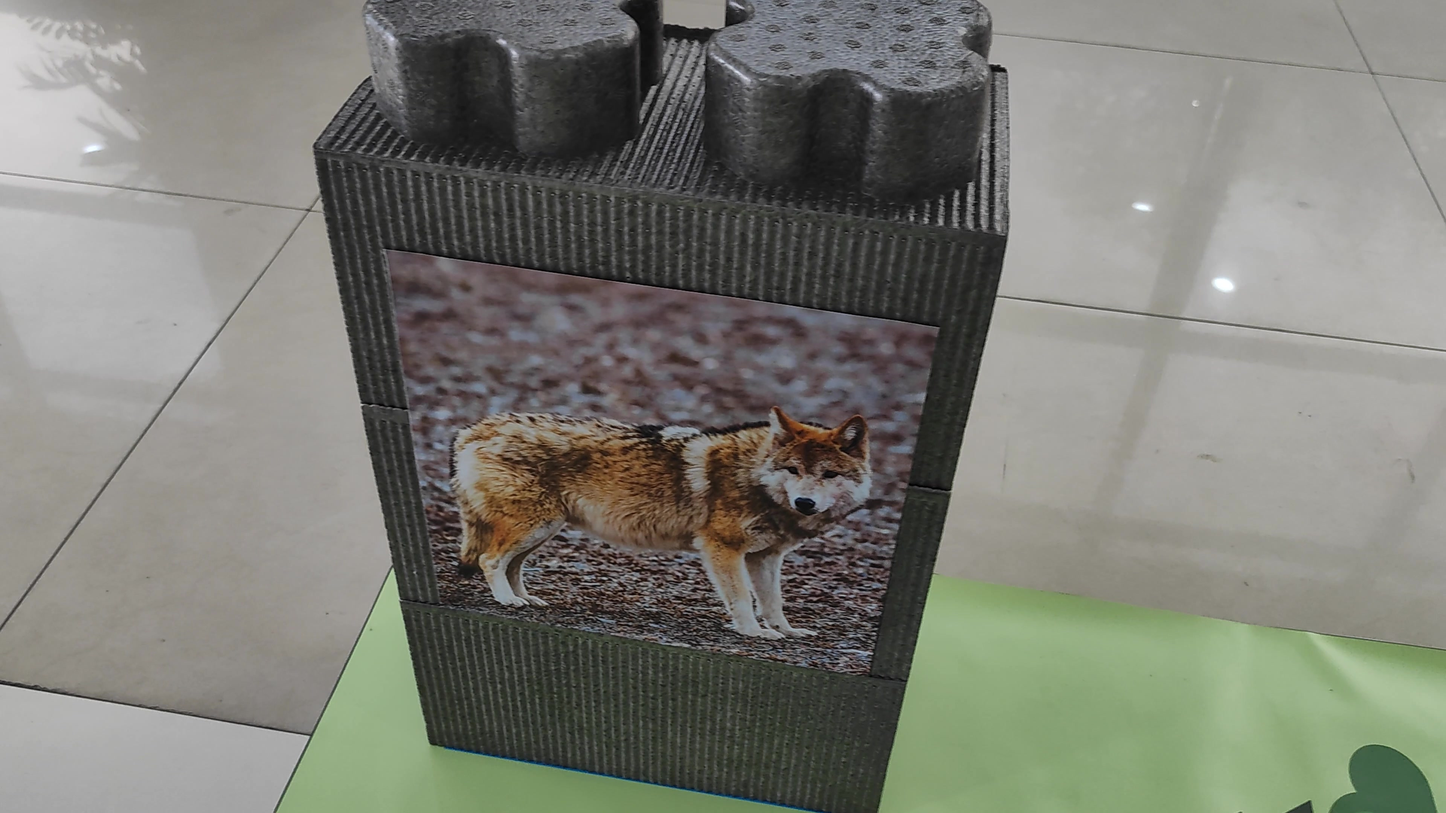wolf: (408, 273, 880, 677)
